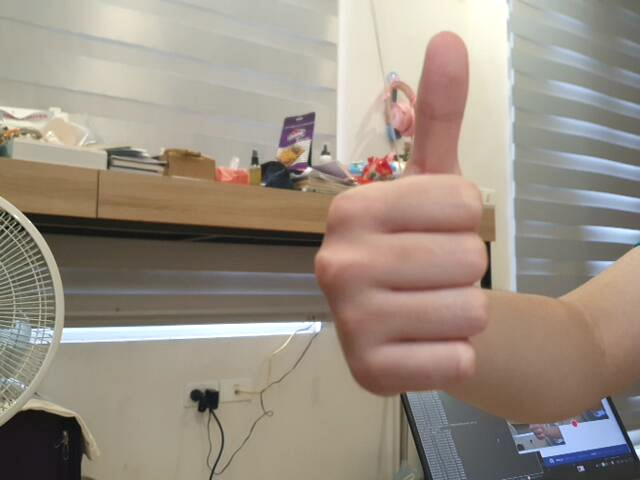ThumbsUp: (310, 28, 495, 405)
